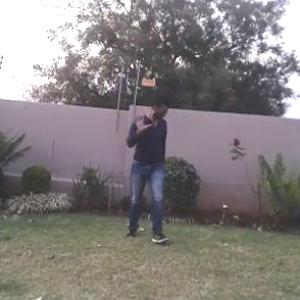follow_hand: (126, 107, 153, 135)
